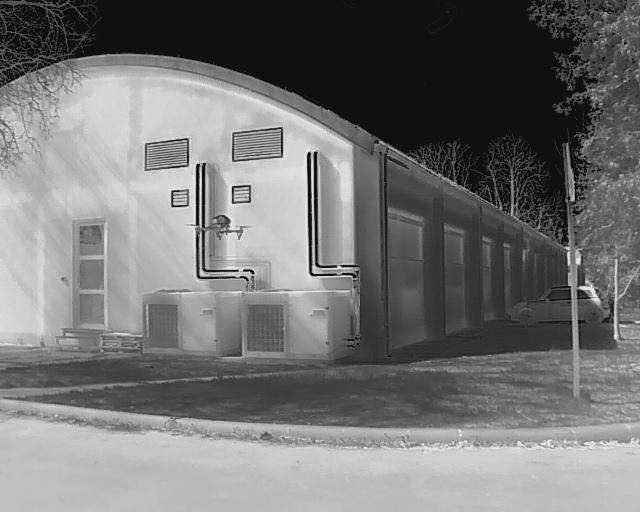drone: (185, 212, 259, 245)
